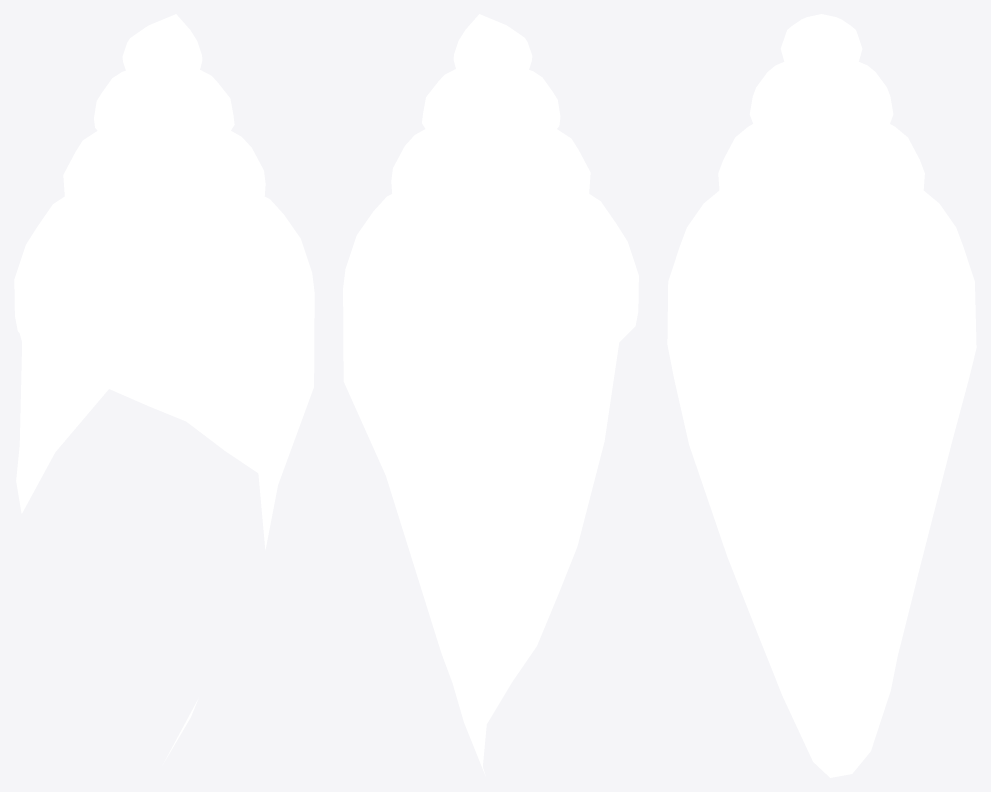
The model's file is shell_roll.gltf.
3 renders of one model, left to right at view 1: azimuth 30°, elevation 25°; view 2: azimuth 150°, elevation 25°; view 3: azimuth 270°, elevation 25°, orthographic. The views are drawn at different scales.
Parts seen in each view (by area): view 1: shell_roll; view 2: shell_roll; view 3: shell_roll.
Part boxes in pixels (x1,y1,x2,y2): shell_roll: (14,14,314,763); shell_roll: (343,14,638,775); shell_roll: (667,14,976,777).
Size of the model in its own units: 10.77 by 30 by 10.86.
1 material, 1 textured.
